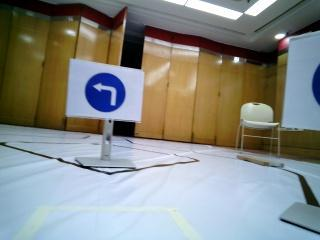left: (67, 60, 140, 119)
